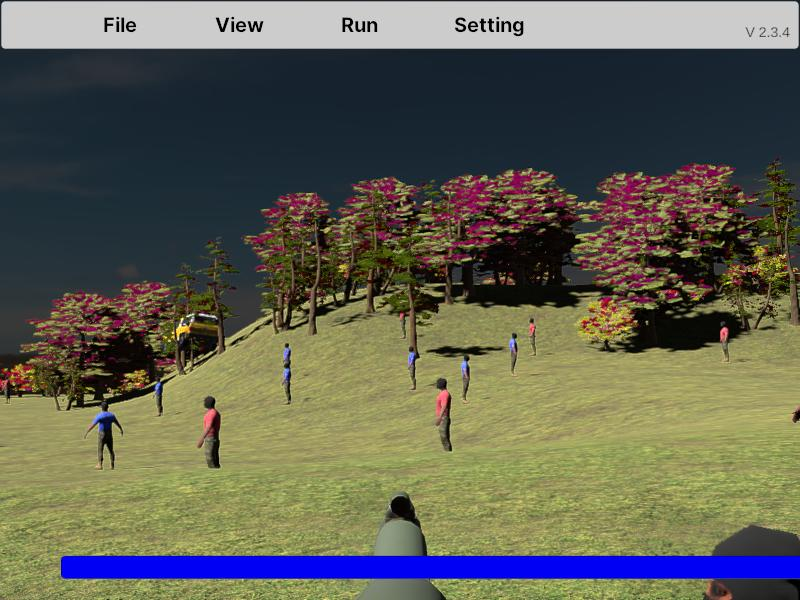Human: (86, 400, 123, 470), (198, 393, 220, 492), (436, 376, 451, 469), (719, 319, 730, 364), (408, 345, 418, 392), (462, 353, 471, 403), (153, 376, 163, 418), (510, 331, 519, 377), (282, 361, 291, 406), (528, 316, 537, 357)
car: (176, 312, 221, 352)
